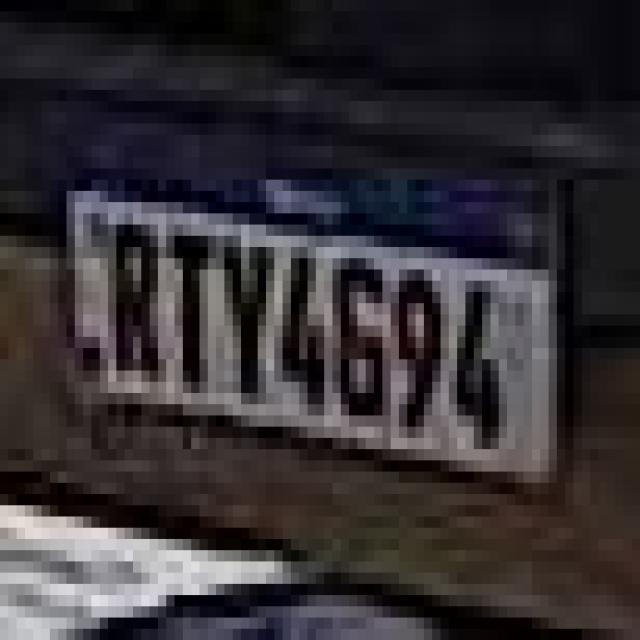4: (279, 223, 334, 428), (450, 272, 511, 456)
6: (332, 245, 396, 443)
9: (392, 268, 450, 438)
R: (107, 207, 160, 398)
T: (160, 218, 222, 401)
Y: (218, 226, 276, 411)
